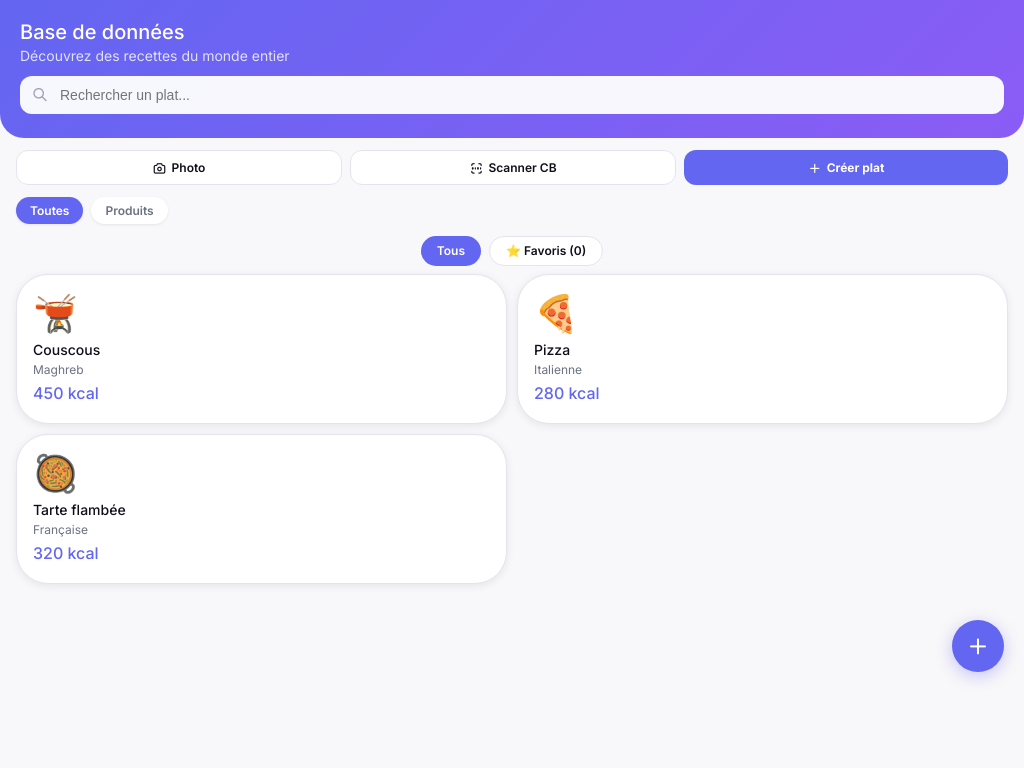
it: DishesPage (REG-06b) › search filters the displayed items
The width and height of the screenshot is (1024, 768).
Expected: the text "Couscous" is shown, [33,341,100,358]
Type "cous" into the field with placeholder "Rechercher un plat..." at (512, 95), box [20,76,1004,114]
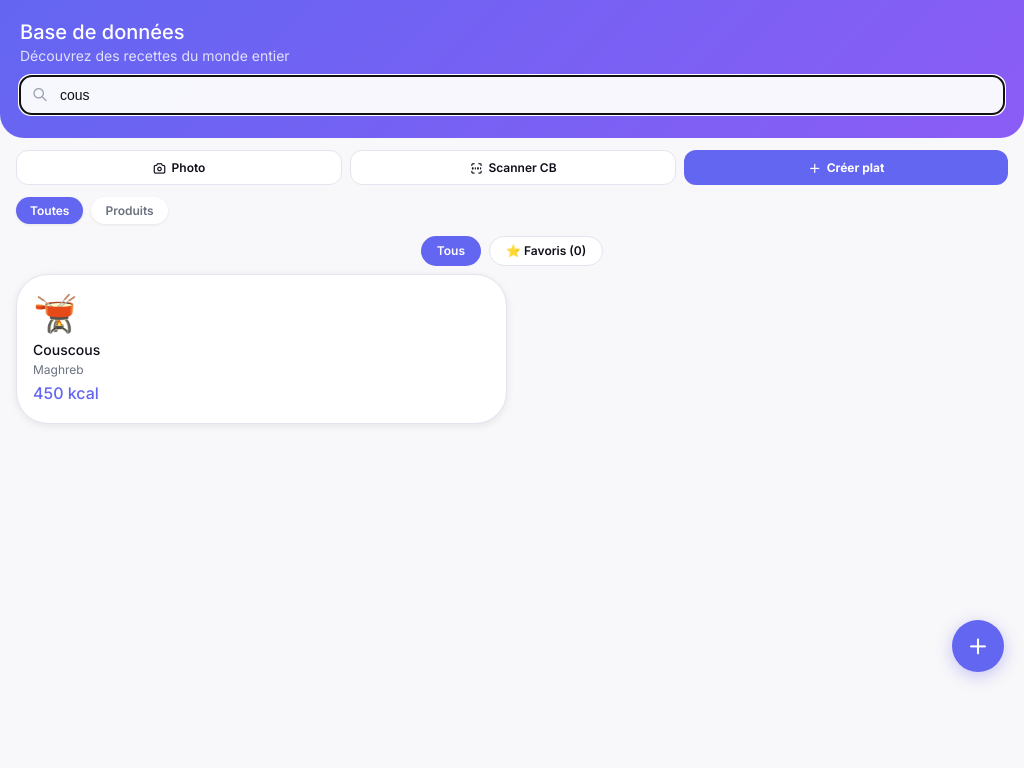
Expected: the text "Couscous" is shown, [33,341,100,358]
Expected: the button "Pizza" is gone
